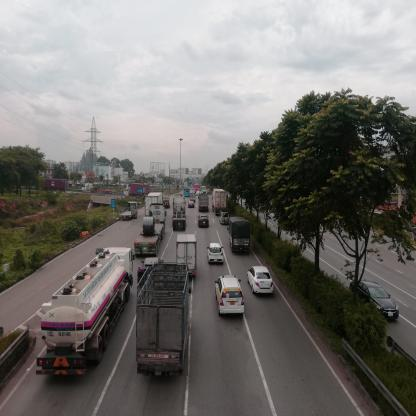car: (217, 277, 246, 319), (253, 266, 273, 290), (211, 242, 225, 262), (199, 217, 209, 230), (222, 212, 229, 226)
container: (136, 206, 167, 258), (174, 196, 186, 234), (213, 192, 229, 213), (42, 179, 67, 192), (125, 184, 149, 197), (84, 184, 95, 194)
truck: (37, 249, 134, 378), (138, 268, 189, 377), (178, 234, 197, 273), (231, 221, 250, 257), (119, 204, 138, 220), (199, 195, 209, 212)
